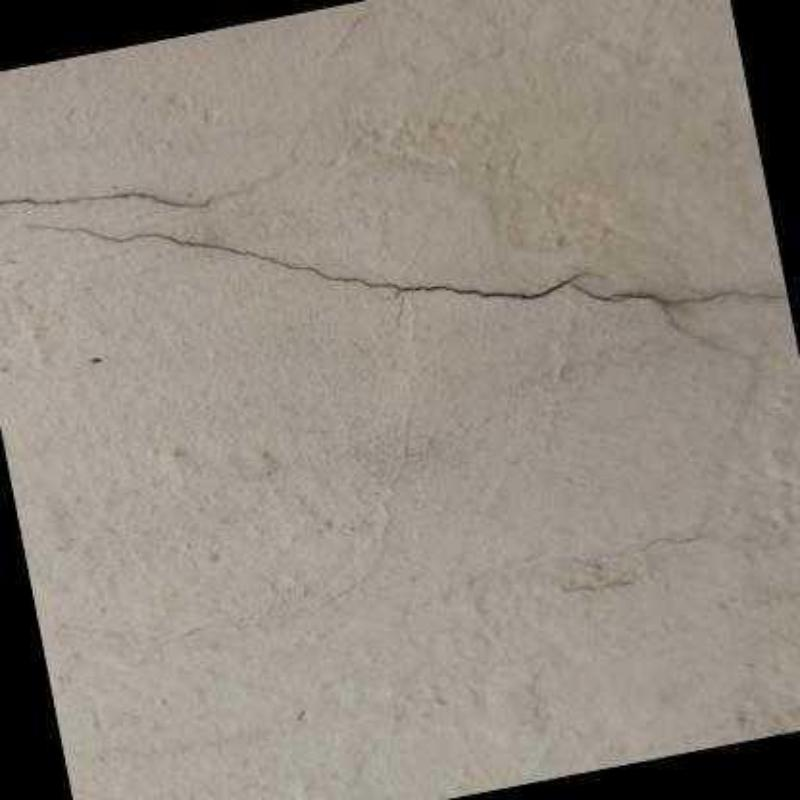pothole: (24, 224, 607, 302), (569, 282, 787, 307), (0, 191, 211, 210)
